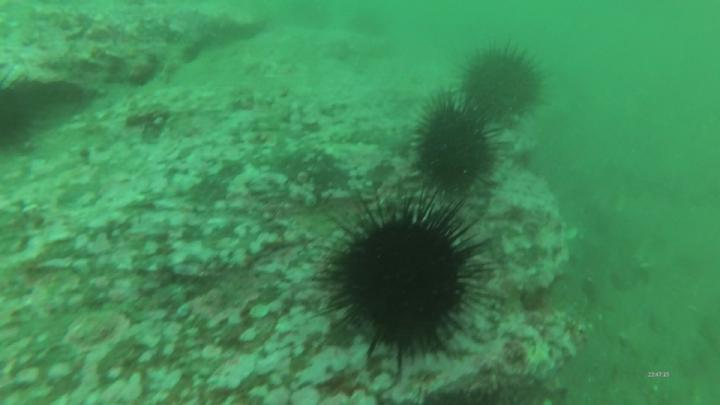echinus: (310, 184, 498, 373), (409, 87, 502, 201), (458, 40, 552, 131), (1, 77, 40, 151)
